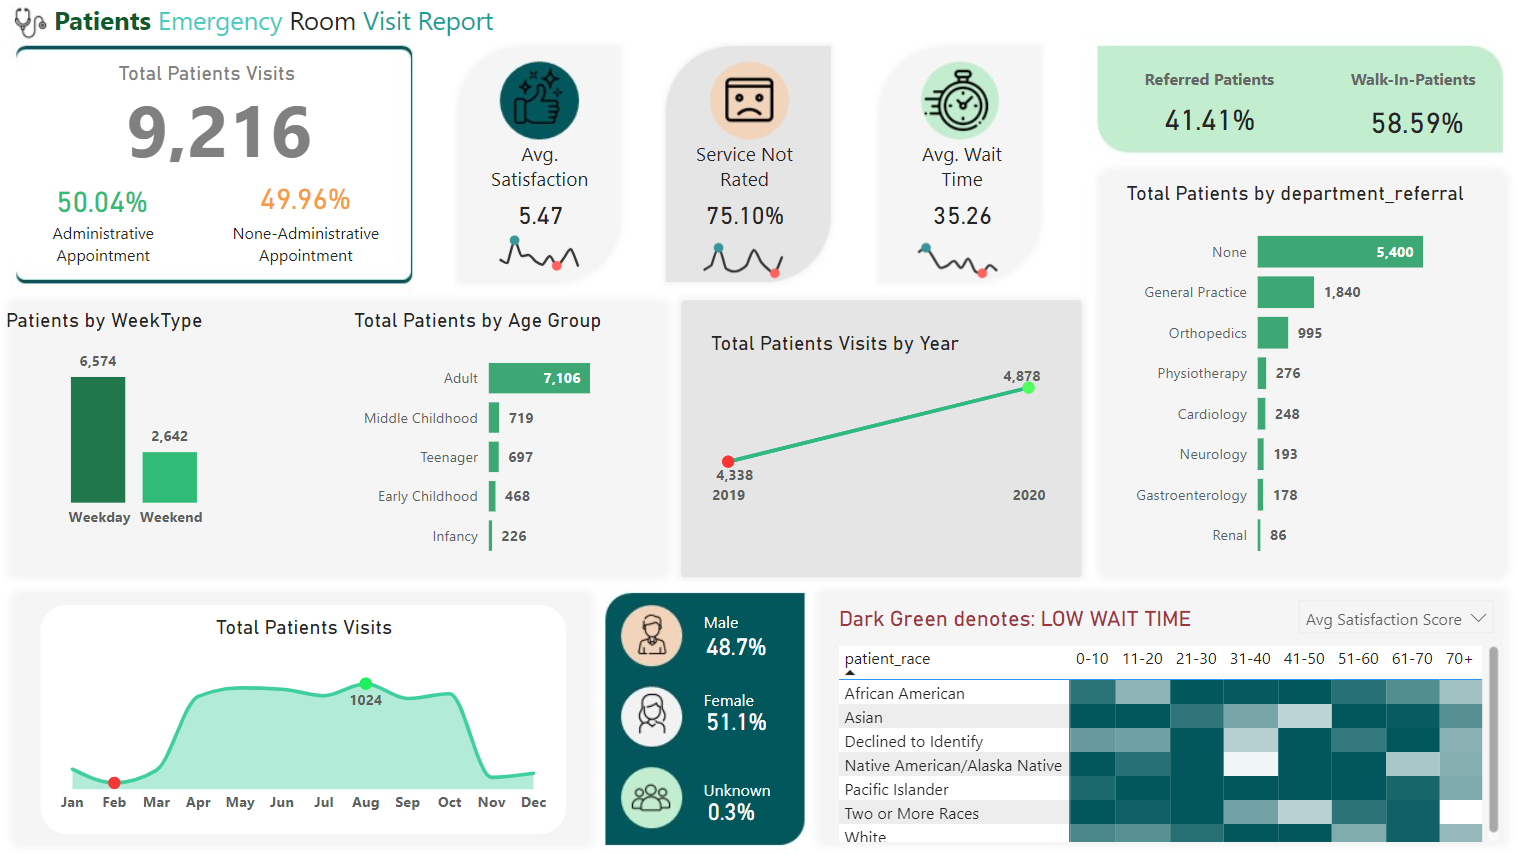

This screenshot's page, from the dashboard's own definition file:
{"tool":"powerbi","page":{"name":"Page 1","canvas":[1280,720],"ordinal":0},"visuals":[{"type":"card","title":"Total Patients Visits","fields":{"Values":["DAX Calculations.Total Patients"]},"box":[101.5,54.3,176.8,89.4],"z":0},{"type":"card","fields":{"Values":["DAX Calculations.Percent None Admin Schedule"]},"box":[218,143.7,88.4,48.2],"z":1000},{"type":"card","fields":{"Values":["DAX Calculations.Percent Admin Schedule"]},"box":[47.2,143.7,88.4,53.2],"z":2000},{"type":"pivotTable","fields":{"Values":["DAX Calculations.Avg Satisfaction Score"],"Rows":["Patients Dataset.patient_race"],"Columns":["Patients Dataset.Age Bucket"]},"box":[701.3,536.5,560.6,172.8],"z":3000},{"type":"slicer","fields":{"Values":["Parameter.Parameter"]},"box":[1080.1,493.3,181.9,49.2],"z":4000},{"type":"barChart","fields":{"Category":["Patients Dataset.Age Group"],"Y":["DAX Calculations.Total Patients"]},"box":[297.4,260.2,238.1,221],"z":5000},{"type":"lineChart","title":"Total Patients Visits","fields":{"Category":["Date.Month"],"Y":["DAX Calculations.Total Patients","DAX Calculations.Values Max point (Month)"]},"box":[41.2,507.4,438.1,190.9],"z":6000},{"type":"lineChart","title":"Total Patients Visits by Year","fields":{"Category":["Date.Year"],"Y":["DAX Calculations.Total Patients","DAX Calculations.Values Max point (Year)"]},"box":[594.8,278.3,288.4,154.7],"z":7000},{"type":"clusteredBarChart","fields":{"Y":["DAX Calculations.Total Patients"],"Category":["Patients Dataset.department_referral"]},"box":[941.4,153.7,291.4,327.5],"z":8000},{"type":"card","fields":{"Values":["DAX Calculations.Percent Ref"]},"box":[964.5,78.4,100.5,46.2],"z":9000},{"type":"card","fields":{"Values":["DAX Calculations.Percent Un Ref"]},"box":[1142.4,83.4,90.4,41.2],"z":10000},{"type":"card","fields":{"Values":["DAX Calculations.Heatmap Caption"]},"box":[680.2,503.4,341.6,29.1],"z":11000},{"type":"textbox","box":[41.2,182.9,104.5,52.2],"z":12000},{"type":"textbox","box":[189.9,182.9,144.7,52.2],"z":13000},{"type":"card","title":"Avg. Satisfaction","fields":{"Values":["DAX Calculations.Avg Satisfaction Score"]},"box":[402.9,119.6,109.5,82.4],"z":14000},{"type":"card","title":"Service Not Rated","fields":{"Values":["DAX Calculations.Percent No Rating"]},"box":[573.7,119.6,108.5,82.4],"z":15000},{"type":"card","title":"Avg. Wait Time","fields":{"Values":["DAX Calculations.Avg Wait Time"]},"box":[755.5,119.6,108.5,82.4],"z":16000},{"type":"textbox","box":[949.5,53.2,130.6,37.2],"z":17000},{"type":"textbox","box":[1123.3,54.3,122.6,35.2],"z":18000},{"type":"clusteredColumnChart","title":"Patients by WeekType","fields":{"Y":["DAX Calculations.Total Patients"],"Category":["Date.WeekType"]},"box":[7,260.2,225.1,191.9],"z":19000},{"type":"card","fields":{"Values":["DAX Calculations.% Female Visit"]},"box":[580.7,524.5,78.4,35.2],"z":20000},{"type":"card","fields":{"Values":["DAX Calculations.% Male Visit"]},"box":[580.7,587.8,78.4,35.2],"z":21000},{"type":"card","fields":{"Values":["DAX Calculations.% Unknown Visit"]},"box":[588.8,663.1,55.3,35.2],"z":22000},{"type":"PBI_CV_25997FEB_F466_44FA_B562_AC4063283C4C","fields":{"measure":["DAX Calculations.Avg Satisfaction Score"],"axis":["Date.Month"]},"box":[405.9,185.9,104.5,49.2],"z":23000},{"type":"PBI_CV_25997FEB_F466_44FA_B562_AC4063283C4C","fields":{"axis":["Date.Month"],"measure":["DAX Calculations.Avg Wait Time"]},"box":[755.5,191.9,104.5,49.2],"z":24000},{"type":"PBI_CV_25997FEB_F466_44FA_B562_AC4063283C4C","fields":{"measure":["DAX Calculations.Percent No Rating"],"axis":["Date.Month"]},"box":[575.7,191.9,104.5,49.2],"z":25000},{"type":"textbox","box":[588.8,506.4,61.3,52.2],"z":26000},{"type":"textbox","box":[588.8,570.7,61.3,52.2],"z":27000},{"type":"textbox","box":[588.8,646,84.4,34.2],"z":28000},{"type":"textbox","box":[47.2,0,474.2,42.2],"z":28001}]}

Visuals, with their boxes in screenshot pixels (x1, y1, x2, y2), scaled from the page's 1280x720 canvas onto the 1516x854 screenshot:
"Total Patients Visits" card: <bbox>120, 64, 330, 170</bbox>
card - DAX Calculations.Percent None Admin Schedule: <bbox>258, 170, 363, 228</bbox>
card - DAX Calculations.Percent Admin Schedule: <bbox>56, 170, 161, 234</bbox>
pivotTable - DAX Calculations.Avg Satisfaction Score x Patients Dataset.patient_race: <bbox>831, 636, 1495, 841</bbox>
slicer - Parameter.Parameter: <bbox>1279, 585, 1495, 643</bbox>
barChart - Patients Dataset.Age Group x DAX Calculations.Total Patients: <bbox>352, 309, 634, 571</bbox>
"Total Patients Visits" lineChart: <bbox>49, 602, 568, 828</bbox>
"Total Patients Visits by Year" lineChart: <bbox>704, 330, 1046, 514</bbox>
clusteredBarChart - DAX Calculations.Total Patients x Patients Dataset.department_referral: <bbox>1115, 182, 1460, 571</bbox>
card - DAX Calculations.Percent Ref: <bbox>1142, 93, 1261, 148</bbox>
card - DAX Calculations.Percent Un Ref: <bbox>1353, 99, 1460, 148</bbox>
card - DAX Calculations.Heatmap Caption: <bbox>806, 597, 1210, 632</bbox>
textbox: <bbox>49, 217, 173, 279</bbox>
textbox: <bbox>225, 217, 396, 279</bbox>
"Avg. Satisfaction" card: <bbox>477, 142, 607, 240</bbox>
"Service Not Rated" card: <bbox>679, 142, 808, 240</bbox>
"Avg. Wait Time" card: <bbox>895, 142, 1023, 240</bbox>
textbox: <bbox>1125, 63, 1279, 107</bbox>
textbox: <bbox>1330, 64, 1476, 106</bbox>
"Patients by WeekType" clusteredColumnChart: <bbox>8, 309, 275, 536</bbox>
card - DAX Calculations.% Female Visit: <bbox>688, 622, 781, 664</bbox>
card - DAX Calculations.% Male Visit: <bbox>688, 697, 781, 739</bbox>
card - DAX Calculations.% Unknown Visit: <bbox>697, 787, 763, 828</bbox>
PBI_CV_25997FEB_F466_44FA_B562_AC4063283C4C - DAX Calculations.Avg Satisfaction Score x Date.Month: <bbox>481, 220, 605, 279</bbox>
PBI_CV_25997FEB_F466_44FA_B562_AC4063283C4C - Date.Month x DAX Calculations.Avg Wait Time: <bbox>895, 228, 1019, 286</bbox>
PBI_CV_25997FEB_F466_44FA_B562_AC4063283C4C - DAX Calculations.Percent No Rating x Date.Month: <bbox>682, 228, 806, 286</bbox>
textbox: <bbox>697, 601, 770, 663</bbox>
textbox: <bbox>697, 677, 770, 739</bbox>
textbox: <bbox>697, 766, 797, 807</bbox>
textbox: <bbox>56, 0, 618, 50</bbox>
